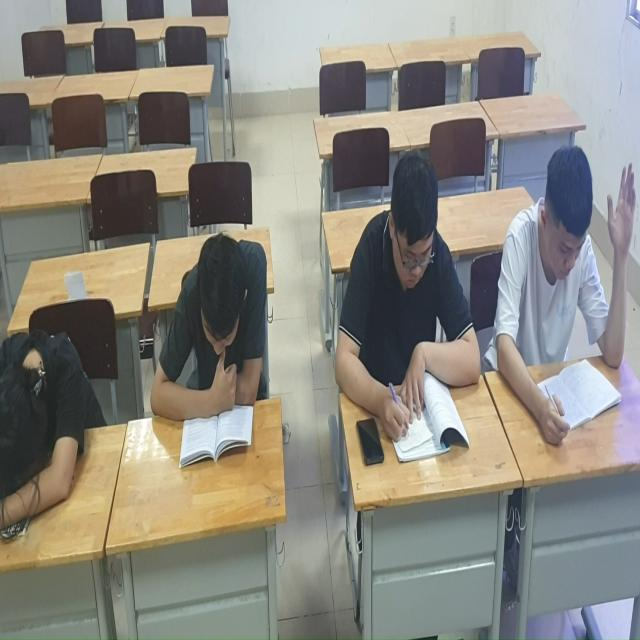raise_hand: (499, 112, 640, 451)
read: (330, 140, 491, 470), (167, 202, 273, 470)
sleep: (1, 295, 101, 524)
